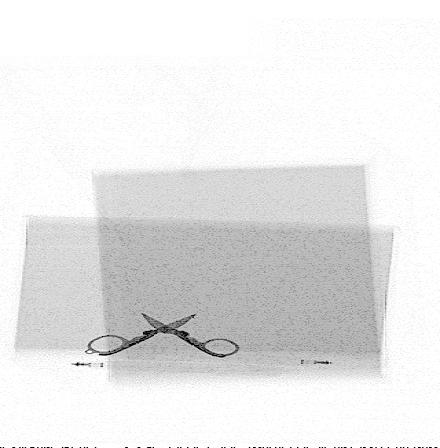Scissors: (85, 310, 241, 359)
